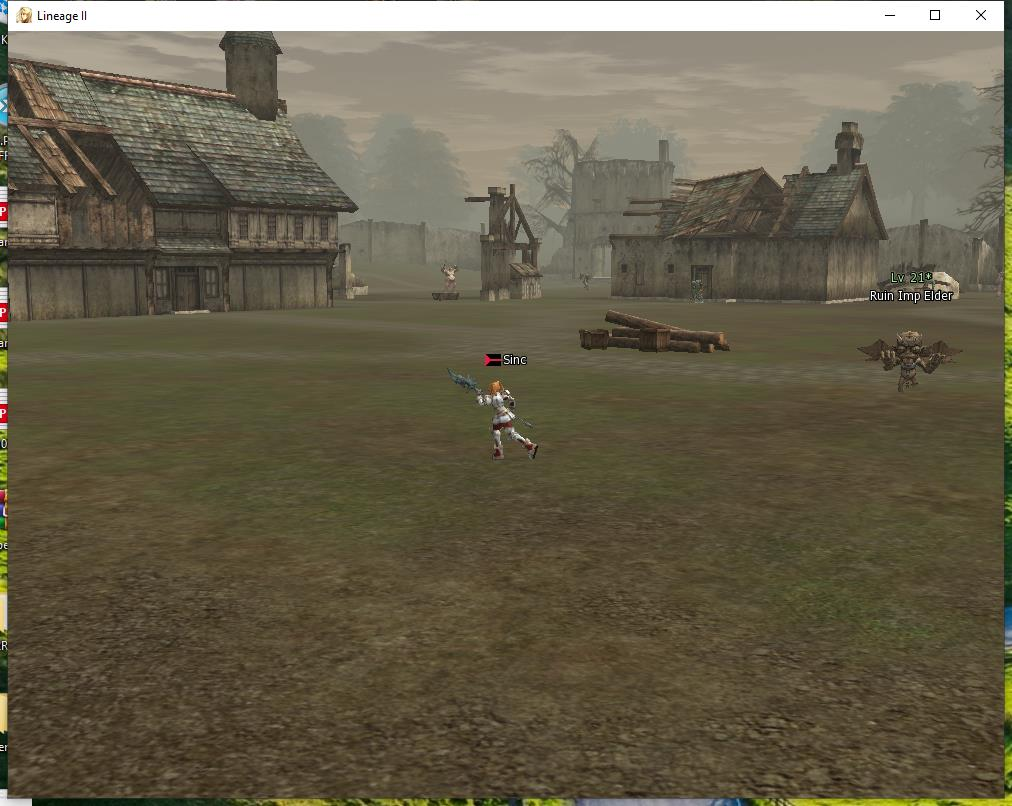monster: (864, 266, 958, 386), (436, 255, 468, 299), (686, 278, 715, 304)
